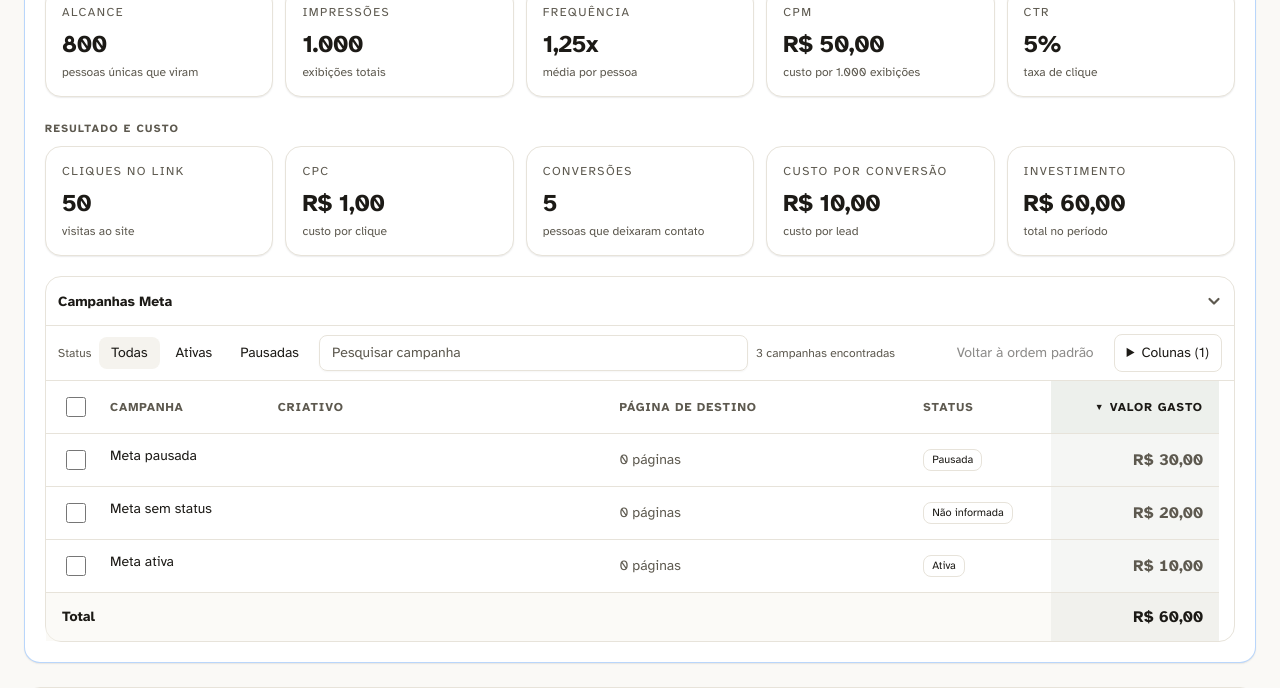
Scenario: colunas da tabela de campanhas › filtra Meta e Google separadamente no formato real da rota e recalcula o total visível
(page scrolled)
Expected: the text "Meta ativa" is shown, x1=110 y1=552 x2=174 y2=570
Click the button "Ativas" at (194, 352), box x1=164 y1=336 x2=224 y2=368
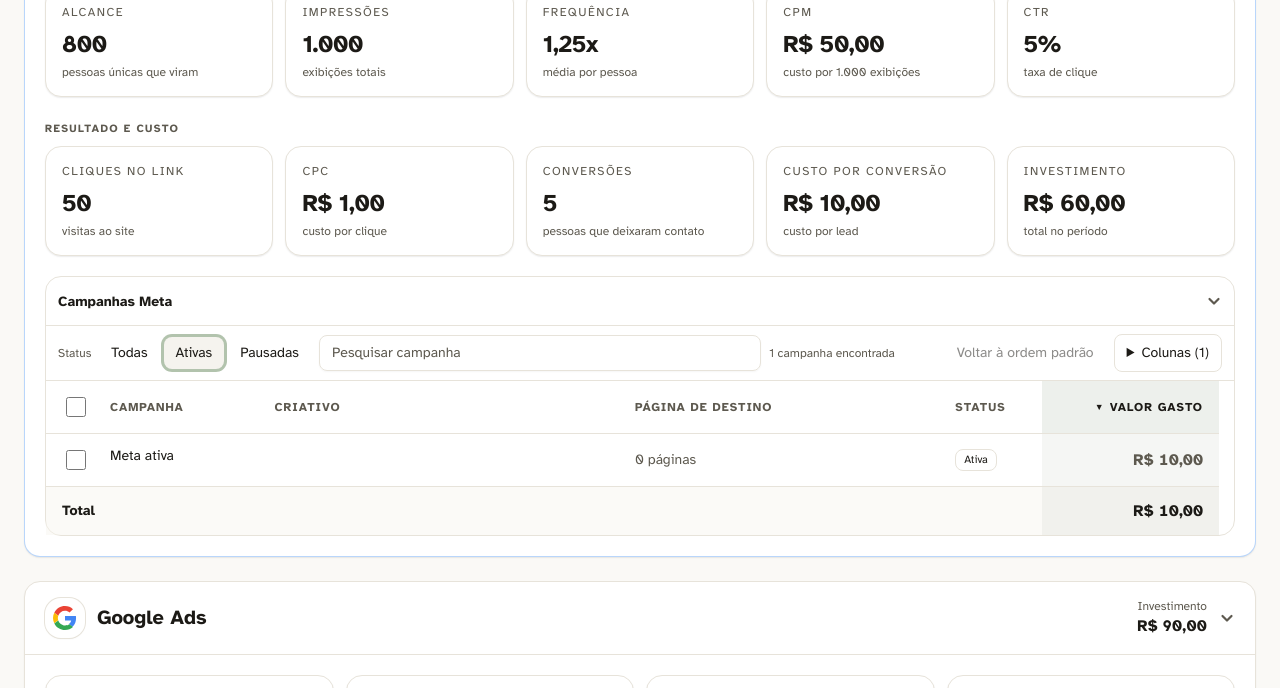
Expected: the text "Meta ativa" is shown, x1=110 y1=446 x2=174 y2=464
Now the text "Total" shows "R$ 10,00", box x1=1133 y1=500 x2=1203 y2=520
Click the button "Pausadas" at (270, 352), box x1=228 y1=336 x2=311 y2=368
(page scrolled)
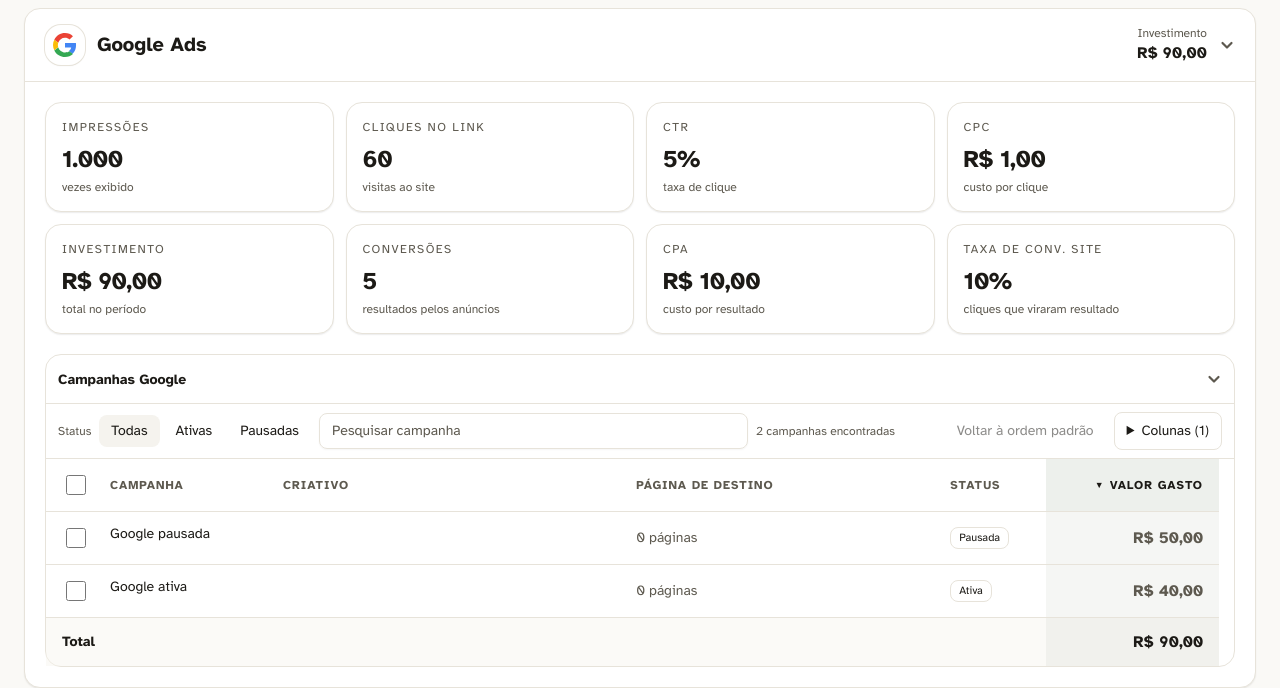
Click the button "Pausadas" at (270, 430), box x1=228 y1=414 x2=311 y2=446
(page scrolled)
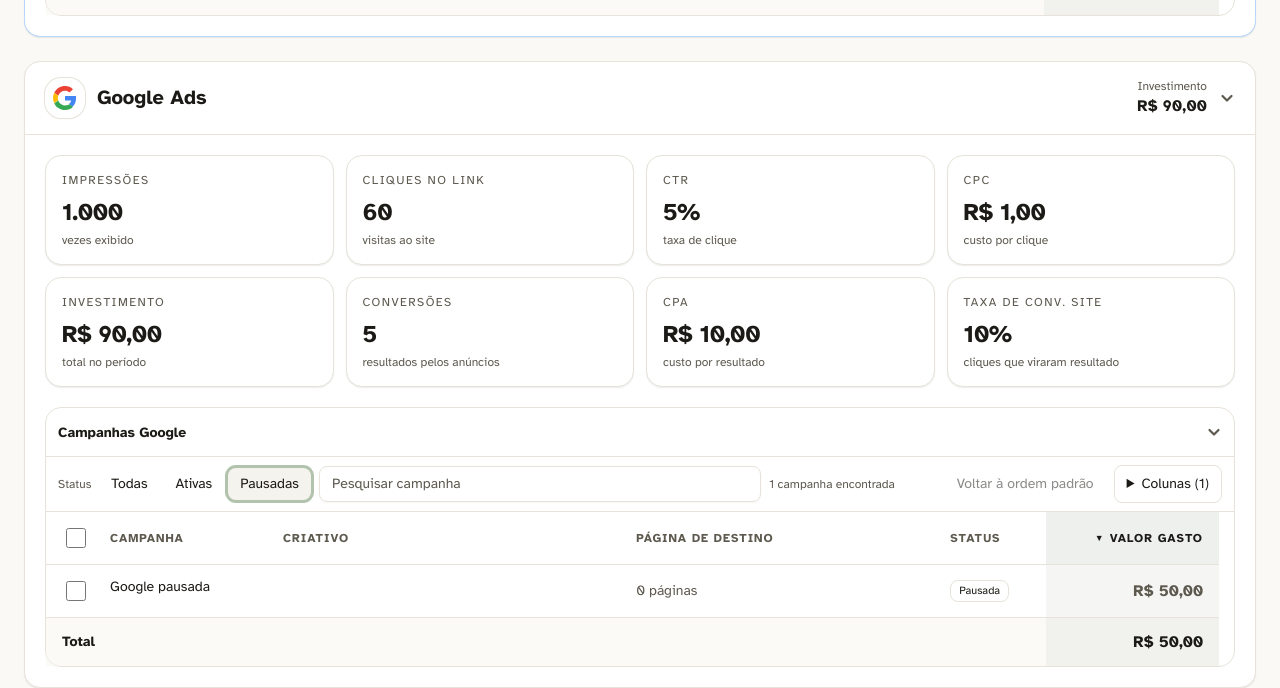
Expected: the text "Google pausada" is shown, x1=110 y1=578 x2=210 y2=594
Now the text "Total" shows "R$ 50,00", box x1=1133 y1=632 x2=1203 y2=652
